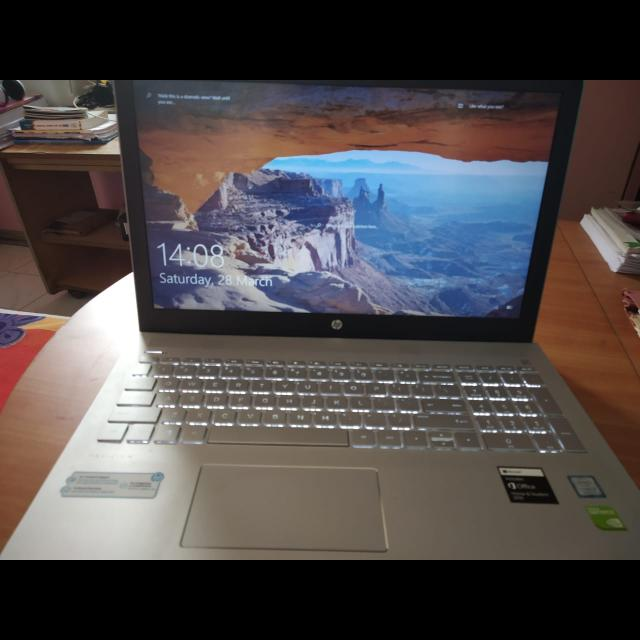Laptop: (3, 84, 640, 559)
